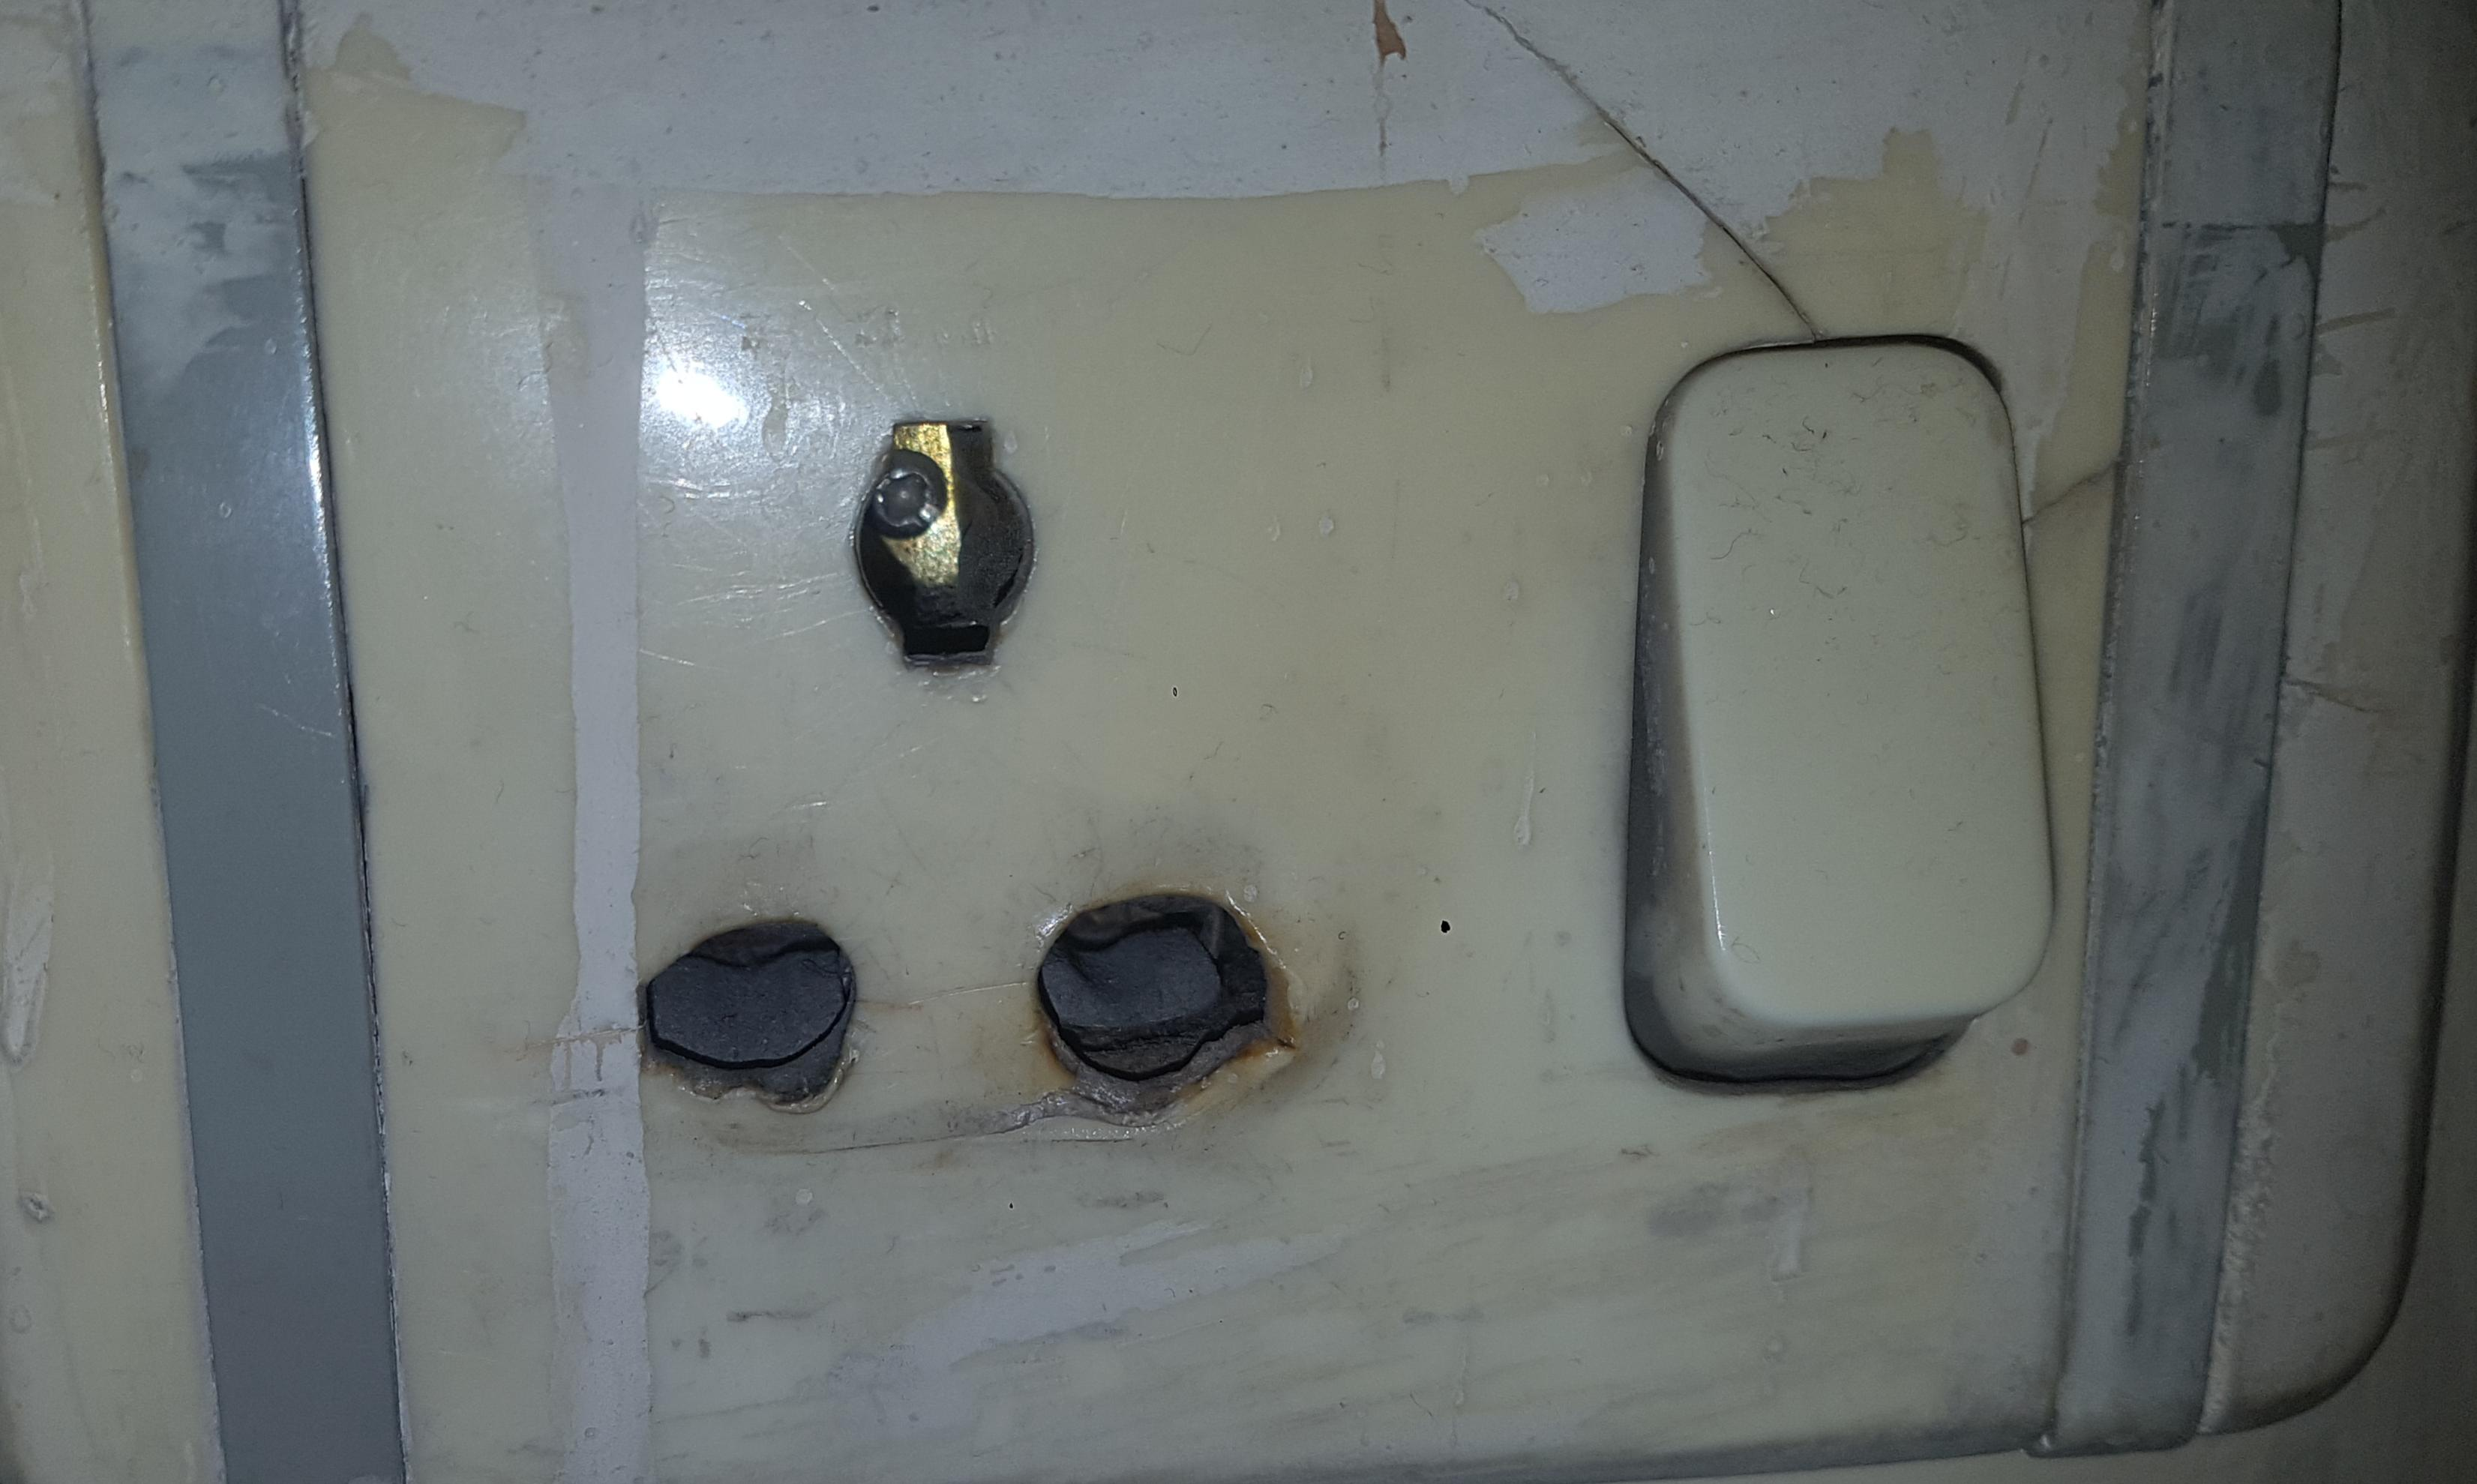electronic: (518, 131, 2177, 1235)
